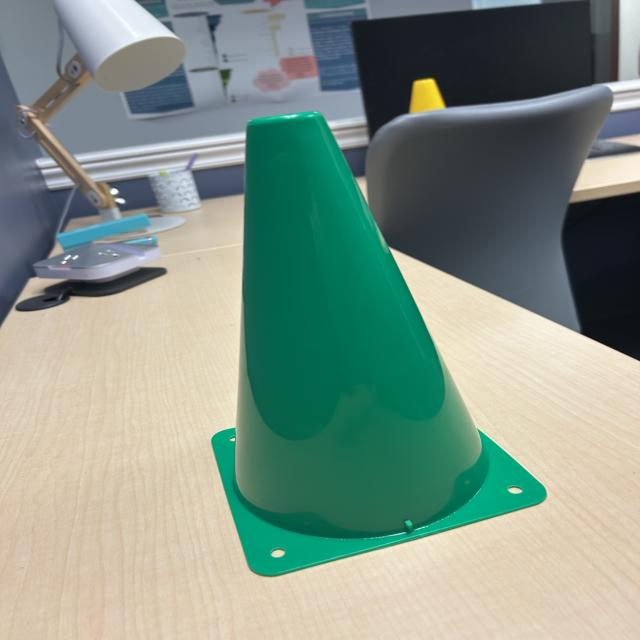green cone: (194, 110, 551, 580)
